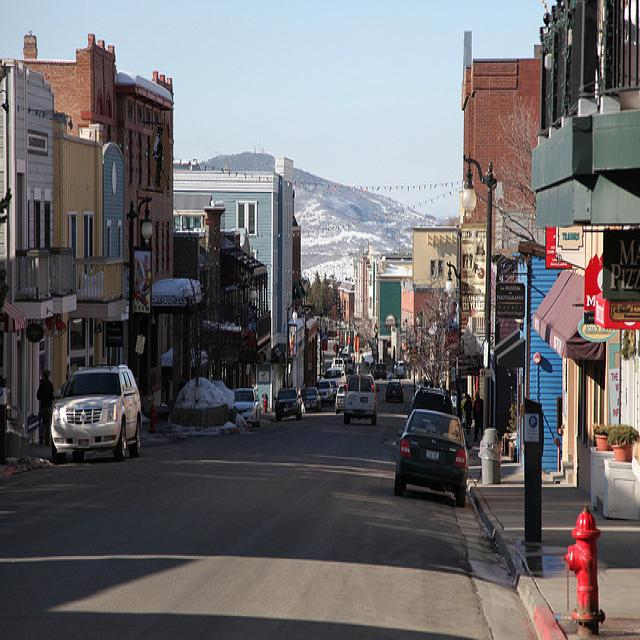Vehicle: (49, 362, 143, 466), (391, 410, 475, 502), (342, 373, 380, 427), (408, 387, 454, 416), (233, 388, 261, 428), (275, 388, 306, 421), (302, 387, 322, 413), (324, 368, 345, 389), (385, 382, 405, 402), (317, 380, 333, 404), (335, 385, 344, 415)
